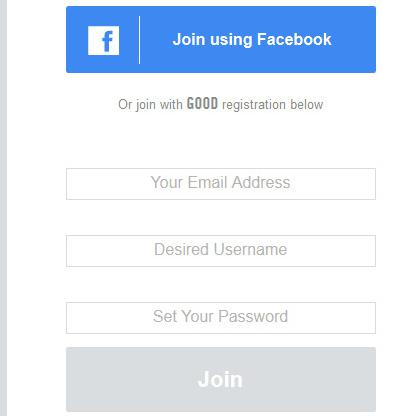button: (64, 346, 376, 415), (65, 5, 376, 73)
field: (64, 235, 378, 268), (64, 302, 376, 335), (65, 167, 376, 200)
